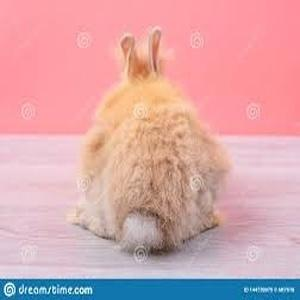rabbit: (70, 27, 230, 254)
